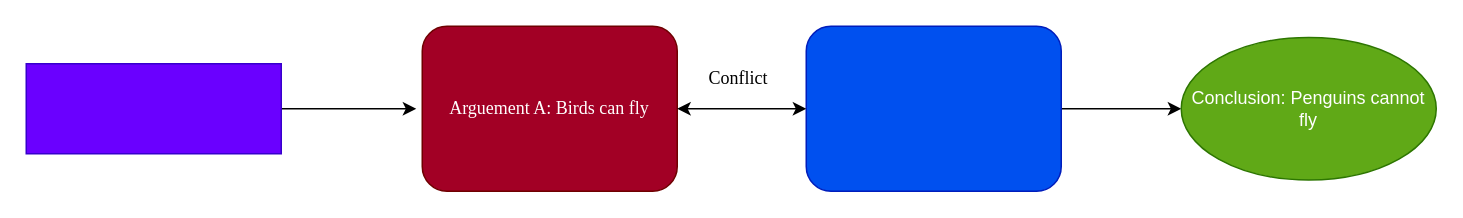
Some shapes in this 1463 by 218 pixel diagram are drawn without their labels. The shapes that lost their labels are listed below. From the top down, each one's centre as x and y in pixels, then its label:
point 153,108: Fact: Penguin is a bird
point 933,108: Arguement B: Penguins cannot fly.
